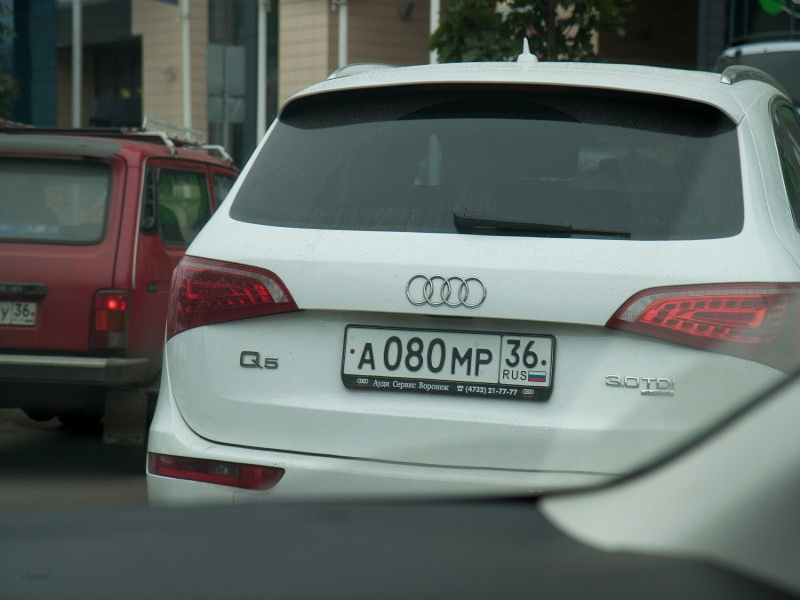car: (144, 59, 800, 520), (1, 128, 240, 451)
plate: (343, 327, 552, 386)
